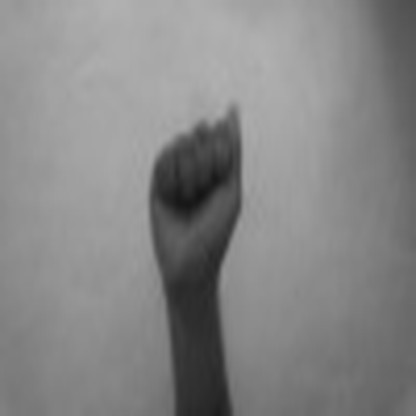a: (140, 88, 250, 280)
